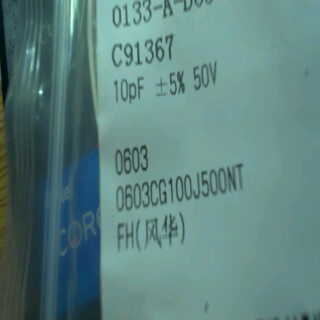10pF: (113, 73, 145, 106)
